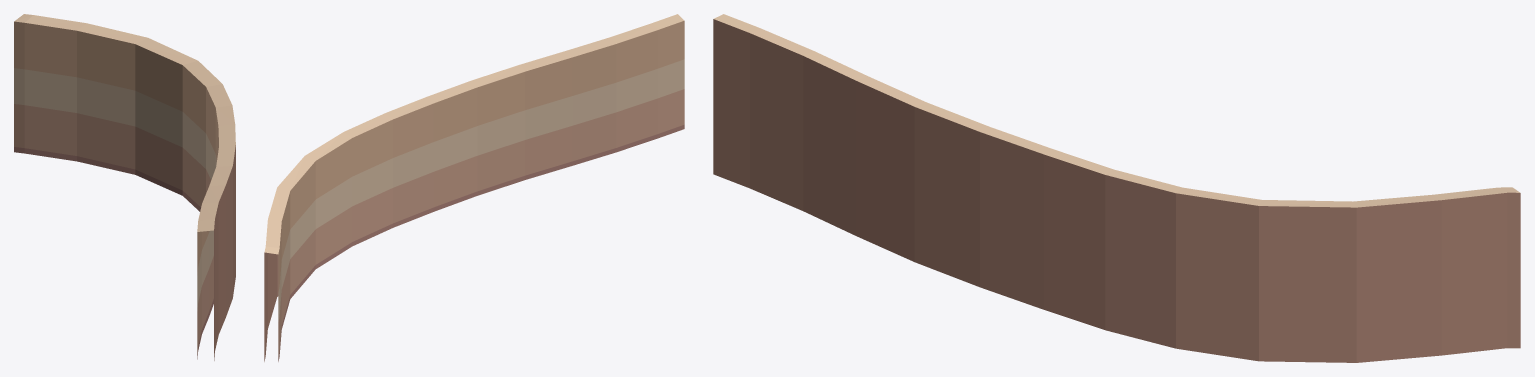
Rendered from pared_derecha_4.glb.
The picture shows the model from 3 angles, left to right: view 1: azimuth 30°, elevation 25°; view 2: azimuth 150°, elevation 25°; view 3: azimuth 270°, elevation 25°; orthographic projection. The views are drawn at different scales.
Parts seen in each view (by area): view 1: pared_derecha_4; view 2: pared_derecha_4; view 3: pared_derecha_4.
Part boxes in pixels (<box>): pared_derecha_4: <box>14,14,235,360</box>; pared_derecha_4: <box>264,14,684,361</box>; pared_derecha_4: <box>713,14,1520,362</box>.
Size of the model in its own units: 13.41 by 11.48 by 34.84.
